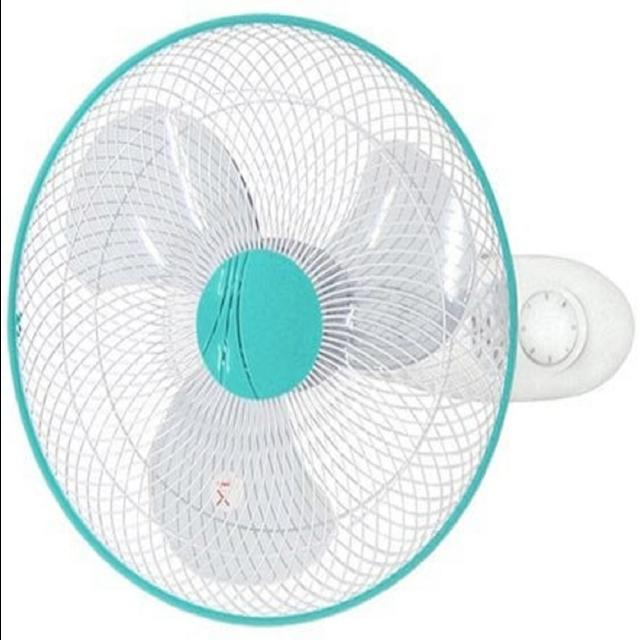fan: (11, 29, 635, 637)
